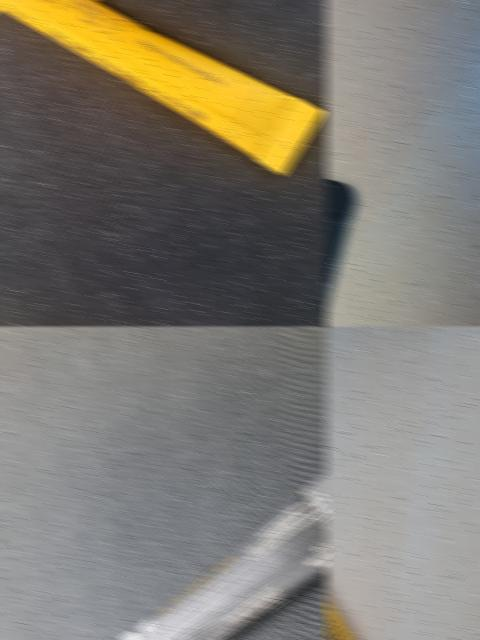KANU: (324, 156, 393, 326)
espresso_mini: (0, 447, 328, 640)
mix_coffee: (0, 0, 328, 201), (324, 365, 445, 640)
